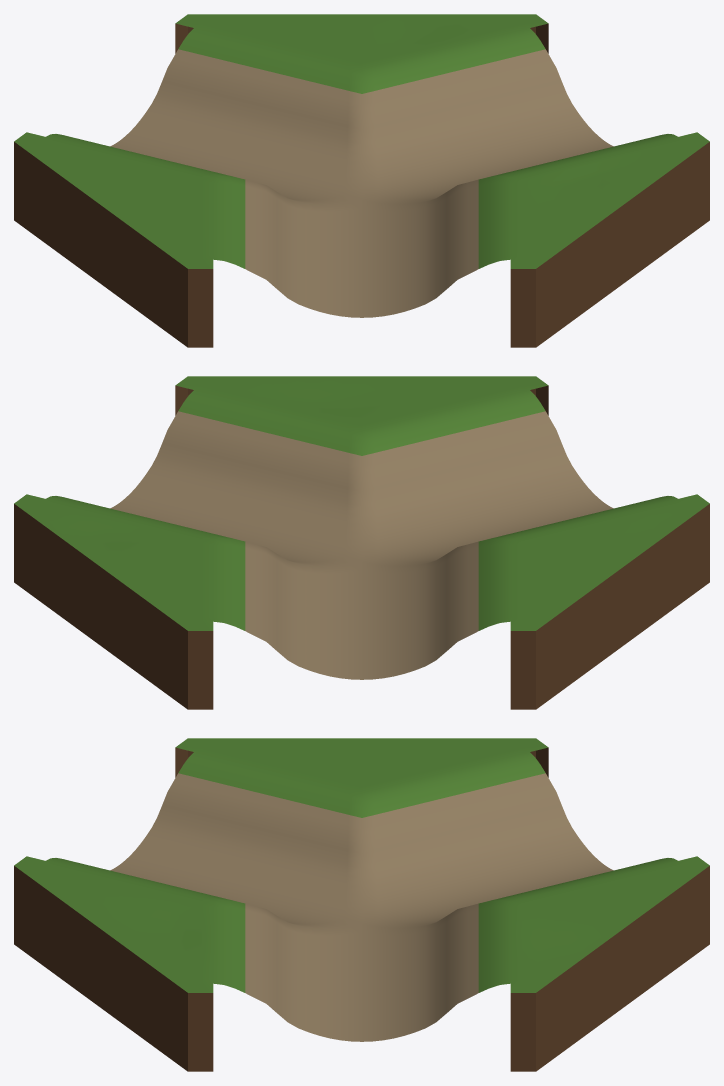
File: river_fork_base.glb
3 renders of one model, top to bottom at view 1: azimuth 30°, elevation 25°; view 2: azimuth 150°, elevation 25°; view 3: azimuth 270°, elevation 25°, orthographic.
Visible parts, largest first — view 1: river_fork_base_lod0; view 2: river_fork_base_lod0; view 3: river_fork_base_lod0.
Part boxes in pixels (x1,y1,x2,y2): river_fork_base_lod0: (14,14,709,347); river_fork_base_lod0: (14,376,709,709); river_fork_base_lod0: (14,738,709,1071).
Size of what is drawn, in the model's own units: 27.71 by 4 by 32.
